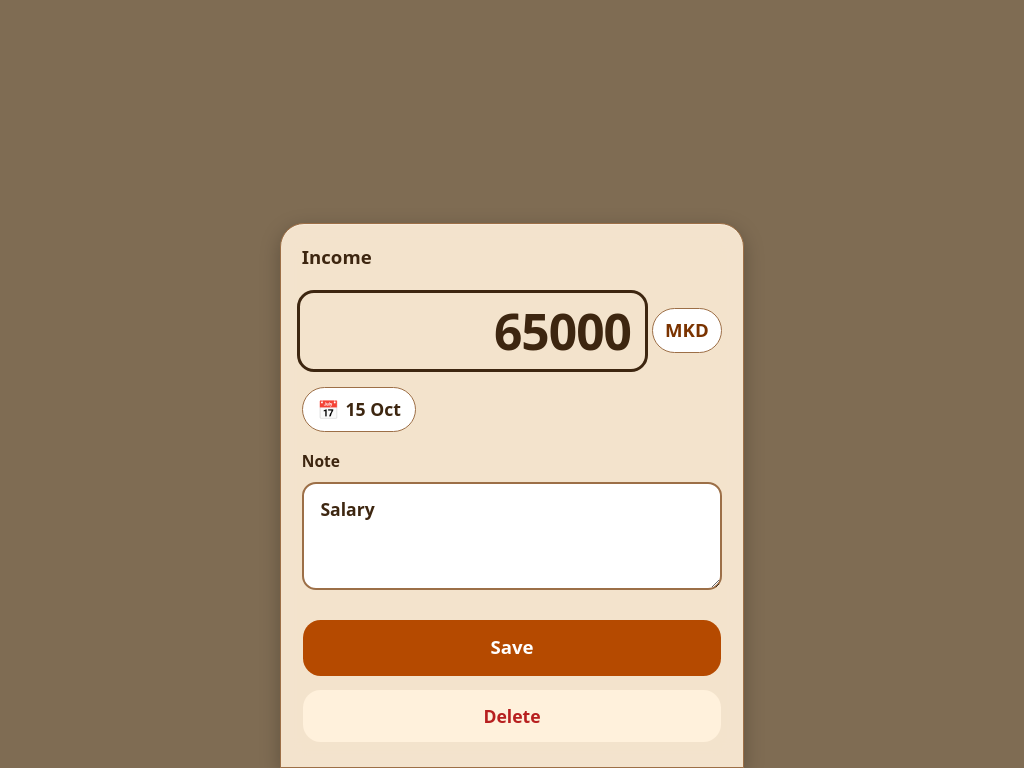
Scenario: PersonalIncomeSheet, editing › saving › shows the translated message above Save and keeps the sheet open when the kind change is refused
Click the button "Save": x=512, y=648 [302,619,722,677]
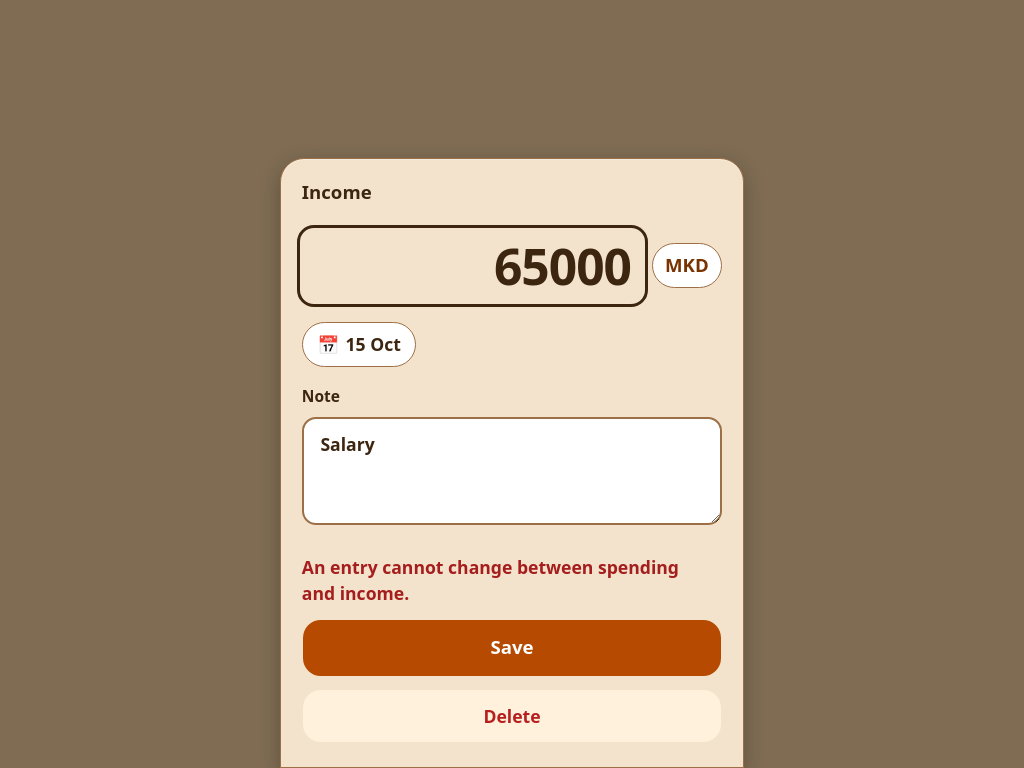
Check: the message reads "An entry cannot change between spending and income.", box [302,555,679,605]
